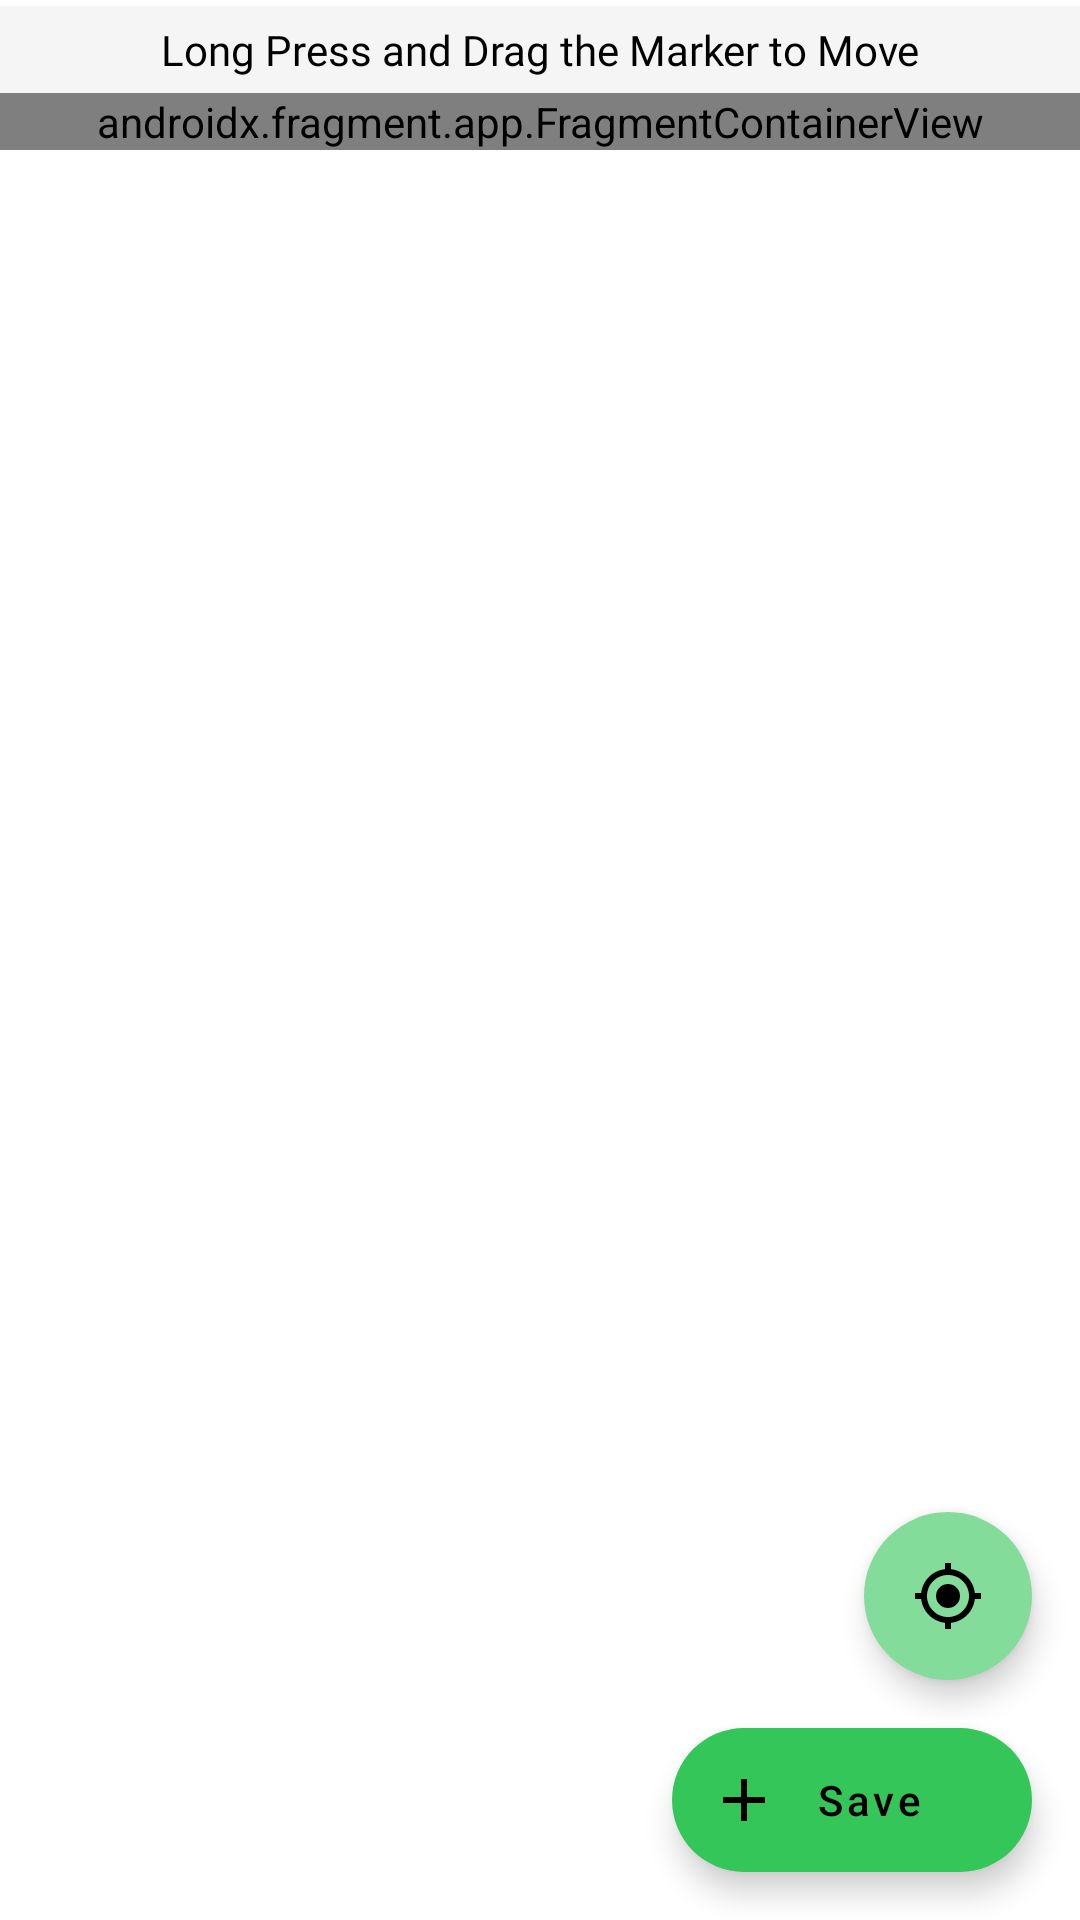

Where to tap for icons on this 1080w x 1920h app screen, as (x,y):
location: (948,1596)
